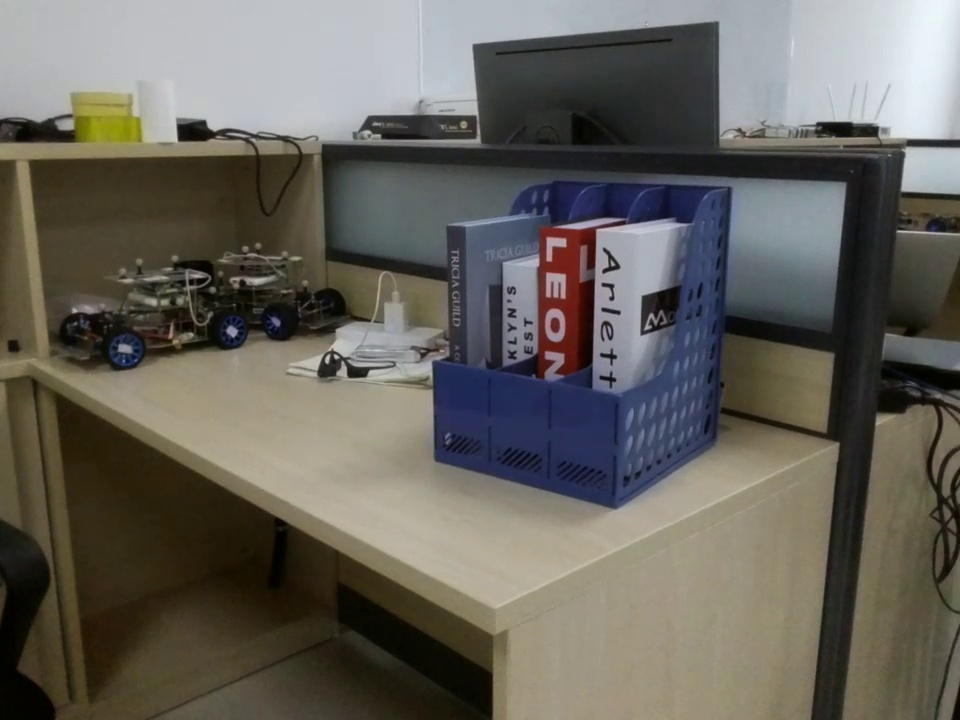files: (427, 168, 747, 509)
